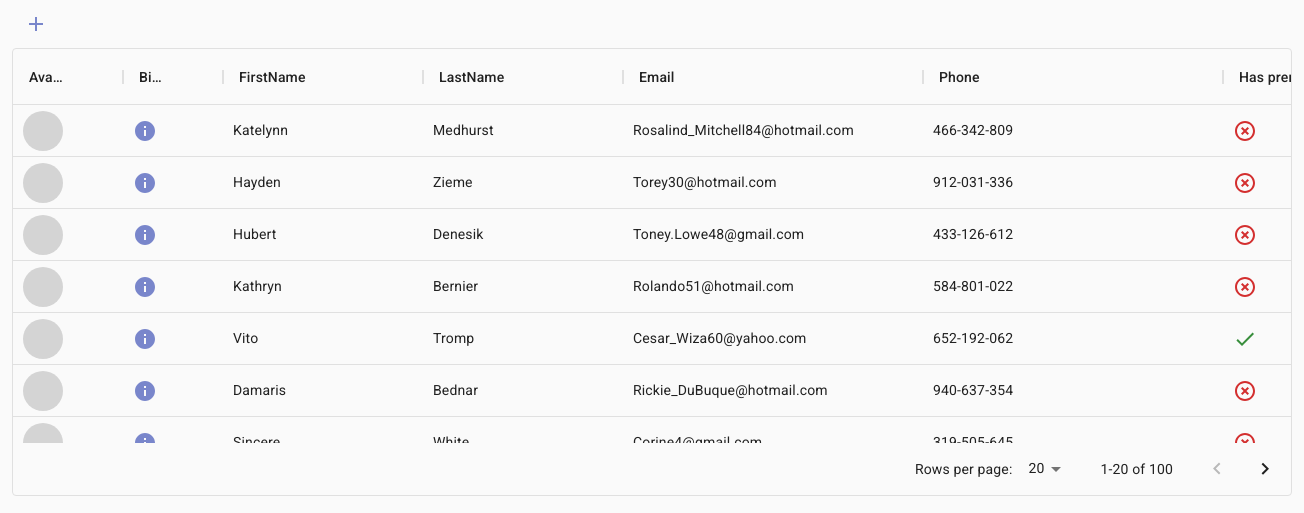
Test: Merchants › show details
Check: the cell "Katelynn" is shown, box [223,105,423,157]
Click the icon named "bids-icon-0": (145, 131) [133,119,157,143]
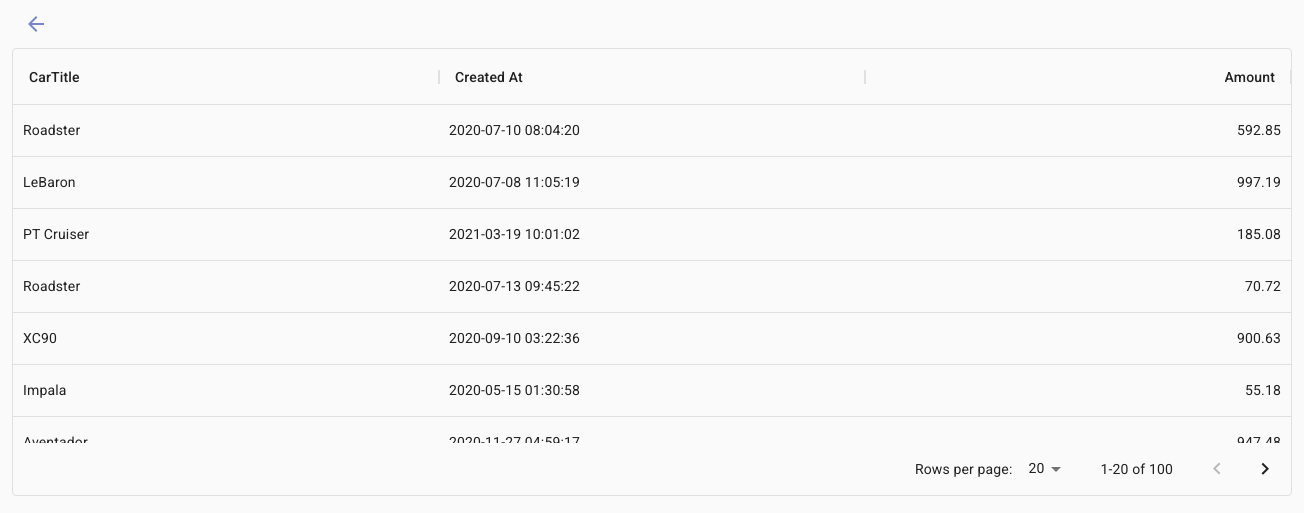
Check: the cell "592.85" is shown, box [865,105,1291,157]
